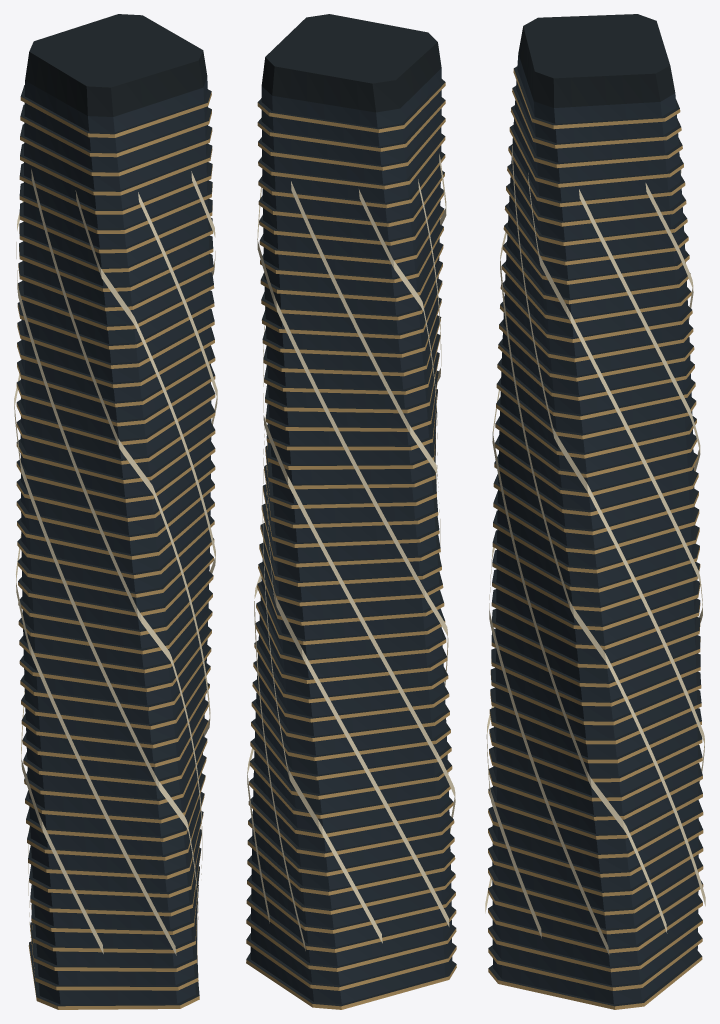
File: one-galle-face-1.glb
3 views of the same model, side by side, from view 1: azimuth 30°, elevation 25°; view 2: azimuth 150°, elevation 25°; view 3: azimuth 270°, elevation 25° (orthographic).
Size of the model in its own units: 41.8 by 200 by 43.38.
